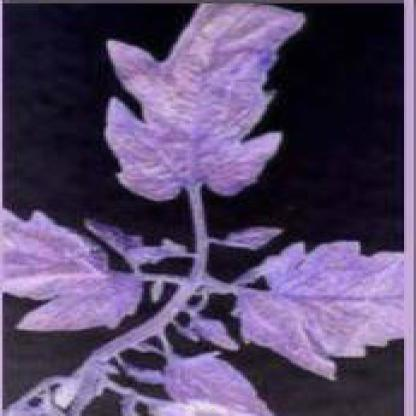Tomato leaf mosaic virus: (94, 9, 310, 206), (236, 239, 406, 377), (7, 198, 147, 339)
